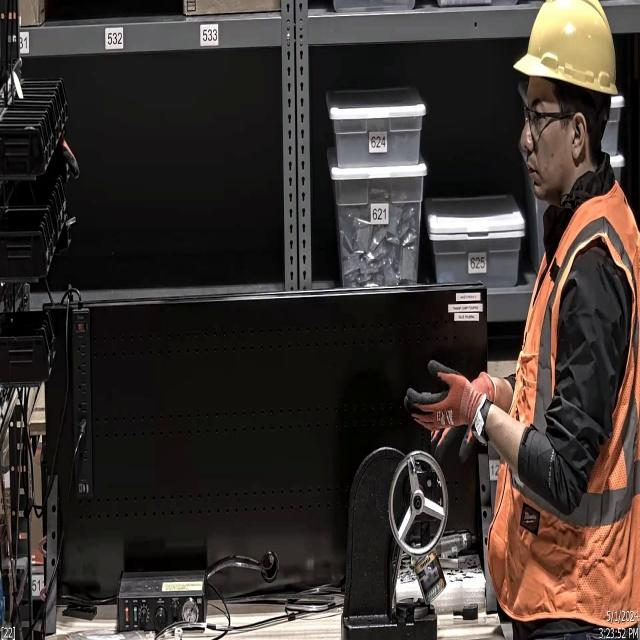gloves: (400, 358, 502, 442)
